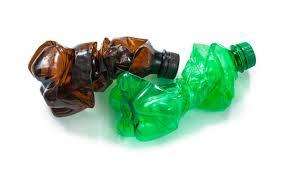plastic: (38, 37, 181, 121)
